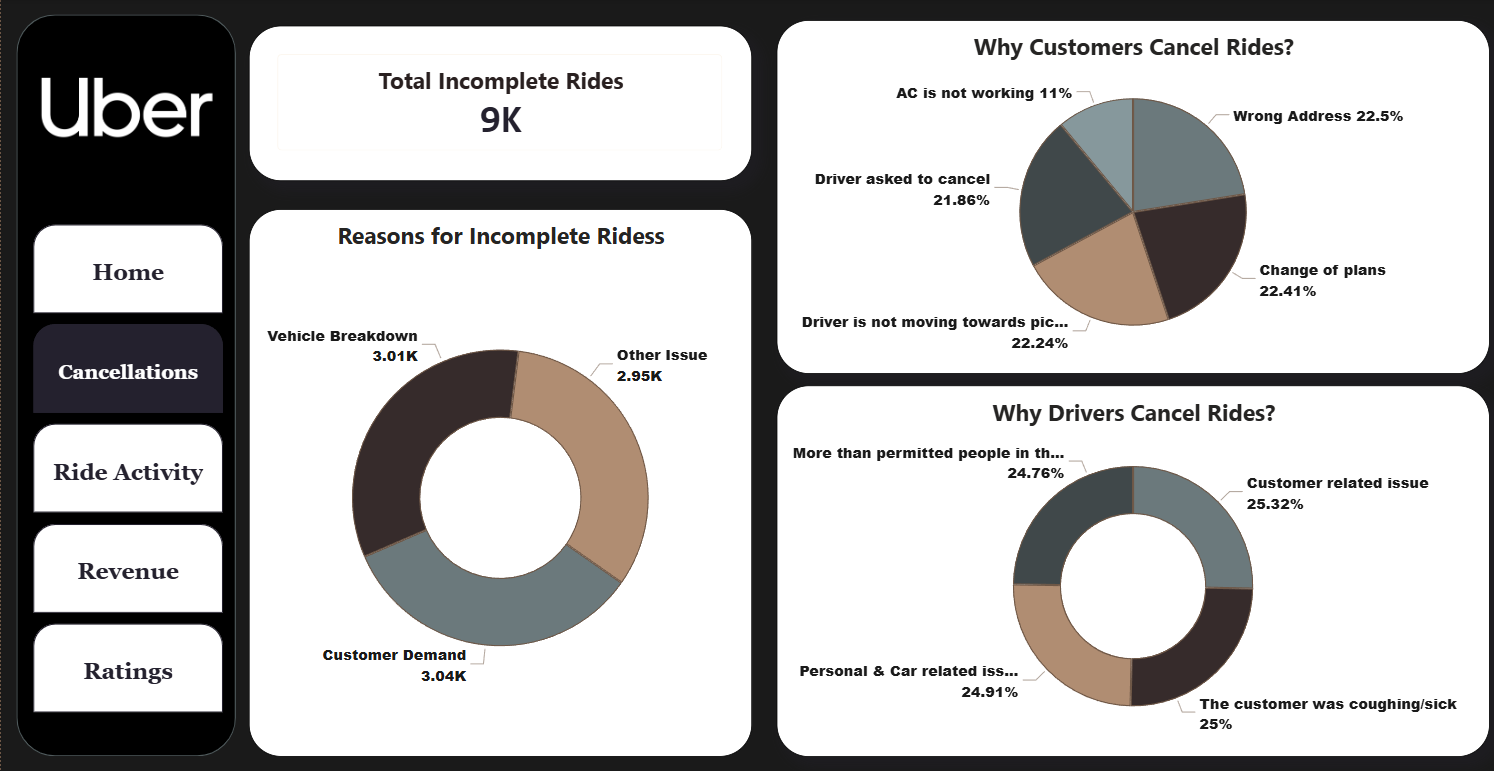

Layout of this report page (visuals, bound fields, positions):
{"tool":"powerbi","page":{"name":"Cancellations","canvas":[1400,720],"ordinal":1},"visuals":[{"type":"pieChart","title":"Why Customers Cancel Rides?","fields":{"Category":["ncr_ride_bookings.Reason for cancelling by Customer"],"Y":["CountNonNull(ncr_ride_bookings.Booking ID)"]},"box":[720,19.4,667.7,330.1],"z":0},{"type":"pieChart","title":"Why Drivers Cancel Rides?","fields":{"Category":["ncr_ride_bookings.Driver Cancellation Reason"],"Y":["CountNonNull(ncr_ride_bookings.Booking ID)"]},"box":[720,360,667.7,346.5],"z":1000},{"type":"donutChart","title":"Reasons for Incomplete Ridess","fields":{"Category":["ncr_ride_bookings.Incomplete Rides Reason"],"Y":["CountNonNull(ncr_ride_bookings.Booking ID)"]},"box":[231.5,195.7,469,510.8],"z":2000},{"type":"cardVisual","fields":{"Data":["Sum(ncr_ride_bookings.Incomplete Rides)"]},"box":[231.5,25.4,469,144.9],"z":3000},{"type":"shape","box":[14.4,14.4,204.6,691.8],"z":4000},{"type":"pageNavigator","box":[29.9,210.6,177.7,457.1],"z":5000},{"type":"image","box":[25.9,47.6,181.6,108.1],"z":6000}]}

Visuals, with their boxes in screenshot pixels (x1, y1, x2, y2), scaled from the page's 1400x720 canvas onto the 1494x771 screenshot:
"Why Customers Cancel Rides?" pieChart: <region>768, 21, 1481, 374</region>
"Why Drivers Cancel Rides?" pieChart: <region>768, 386, 1481, 757</region>
"Reasons for Incomplete Ridess" donutChart: <region>247, 210, 748, 757</region>
cardVisual - Sum(ncr_ride_bookings.Incomplete Rides): <region>247, 27, 748, 182</region>
shape: <region>15, 15, 234, 756</region>
pageNavigator: <region>32, 226, 222, 715</region>
image: <region>28, 51, 221, 167</region>
